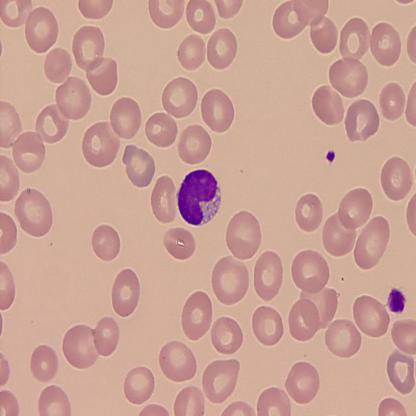Lymphocyte: (176, 167, 222, 227)
